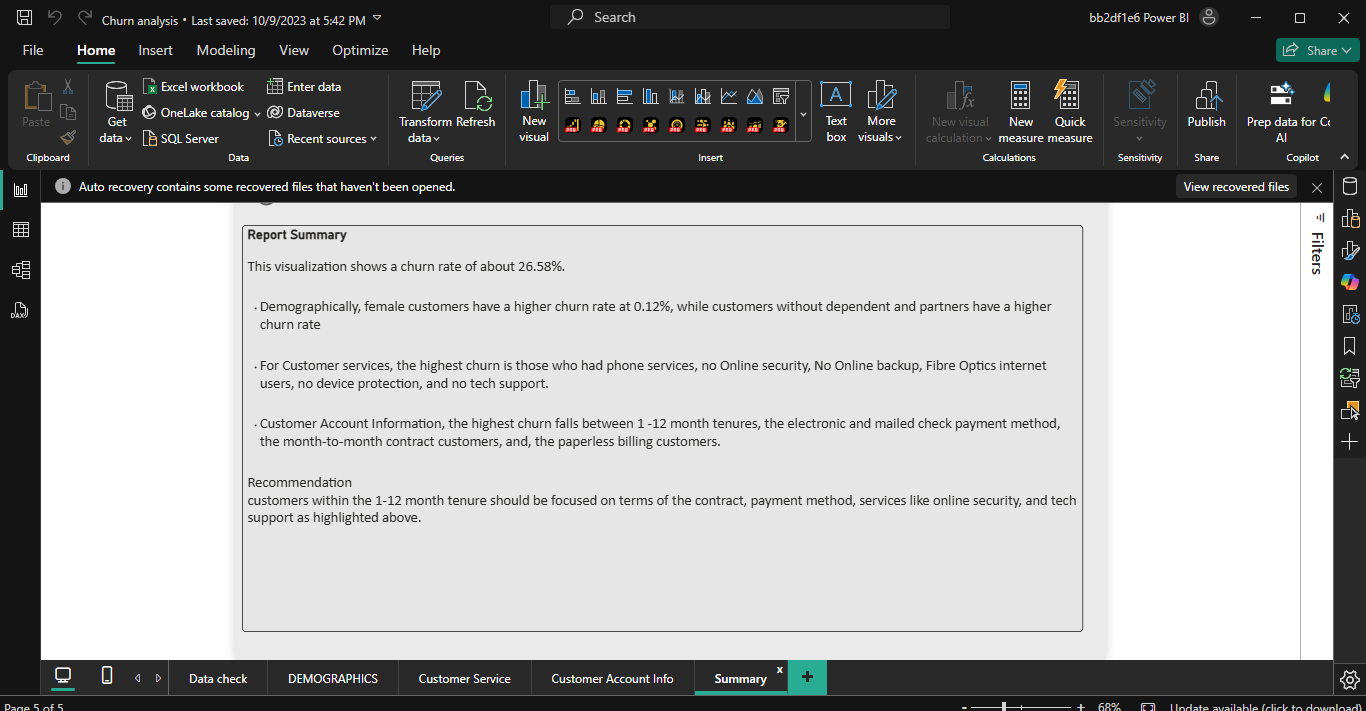

This screenshot's page, from the dashboard's own definition file:
{"tool":"powerbi","page":{"name":"Summary","canvas":[1280,720],"ordinal":4},"visuals":[{"type":"actionButton","box":[26.2,18,100,39.3],"z":0},{"type":"textbox","title":"Report Summary","box":[9.8,80.3,1236.1,598.4],"z":1000}]}

Visuals, with their boxes on the page's 1280x720 design canvas (x1, y1, x2, y2). These are canvas units, not pixel positions in the 1366x711 screenshot, which may show the page scaled, cropped or inside an application window:
actionButton: box(26, 18, 126, 57)
"Report Summary" textbox: box(10, 80, 1246, 679)
